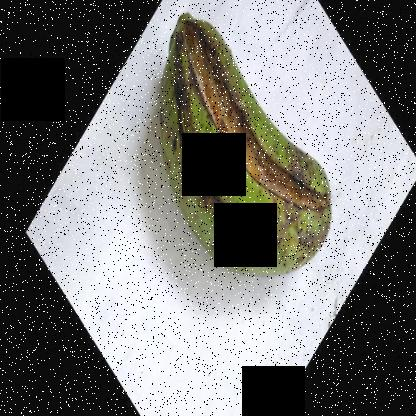rotten: (152, 14, 340, 296)
